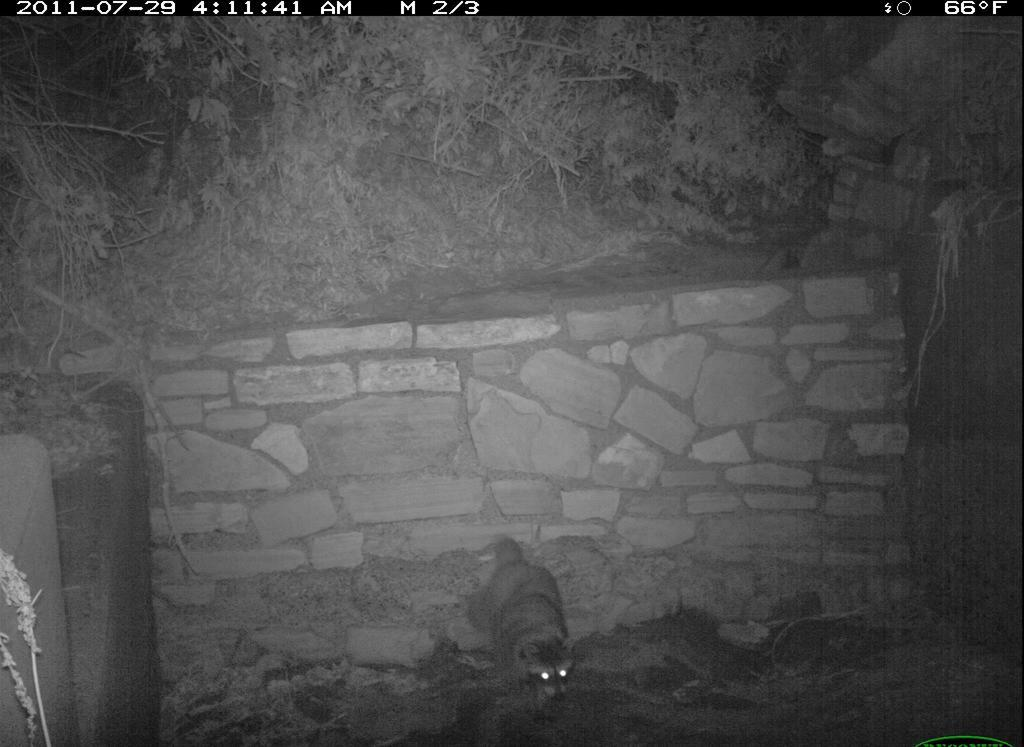raccoon: (447, 564, 614, 681)
